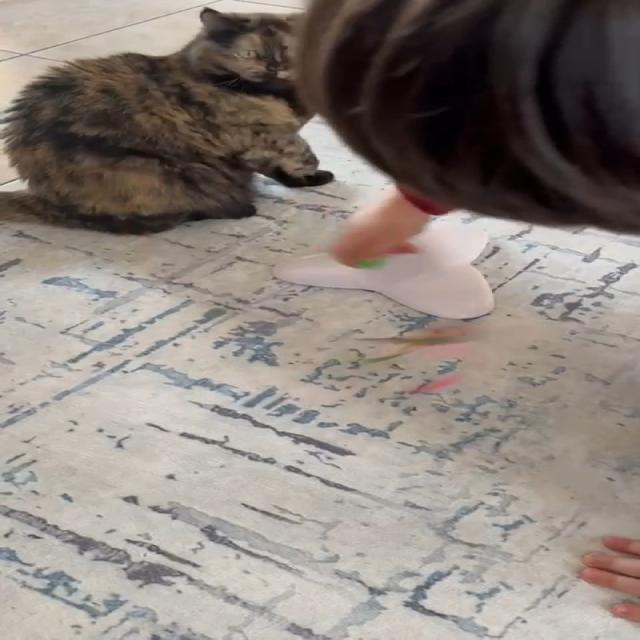authorized: (0, 6, 333, 235)
